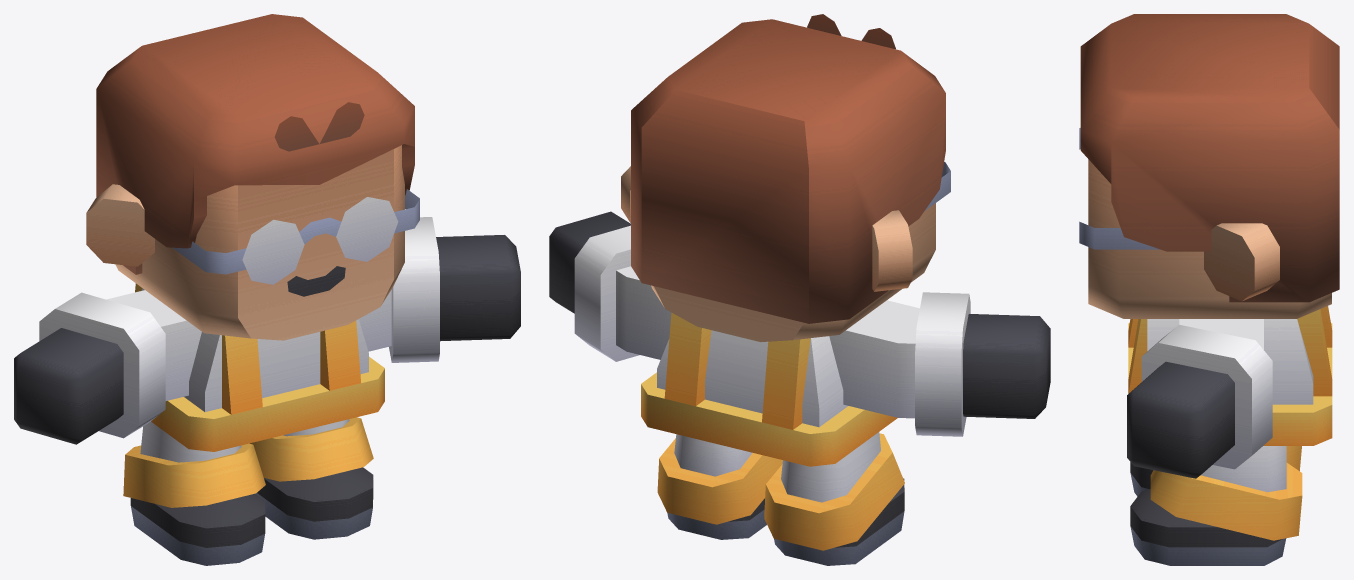
The model's file is character-male-e.glb.
The picture shows the model from 3 angles, left to right: view 1: azimuth 30°, elevation 25°; view 2: azimuth 150°, elevation 25°; view 3: azimuth 270°, elevation 25°; orthographic projection. The views are drawn at different scales.
Visible parts, largest first — view 1: head-mesh, body-mesh; view 2: head-mesh, body-mesh; view 3: head-mesh, body-mesh.
Boxes of the visible parts, x1,y1,x2,y2 form: head-mesh: (86,14,419,340); body-mesh: (14,217,520,565); head-mesh: (621,14,950,341); body-mesh: (549,211,1050,565); head-mesh: (1079,14,1339,318); body-mesh: (1127,306,1332,565).
Size of the model in its own units: 0.7672 by 0.676 by 0.342.
1 material, 1 textured.
